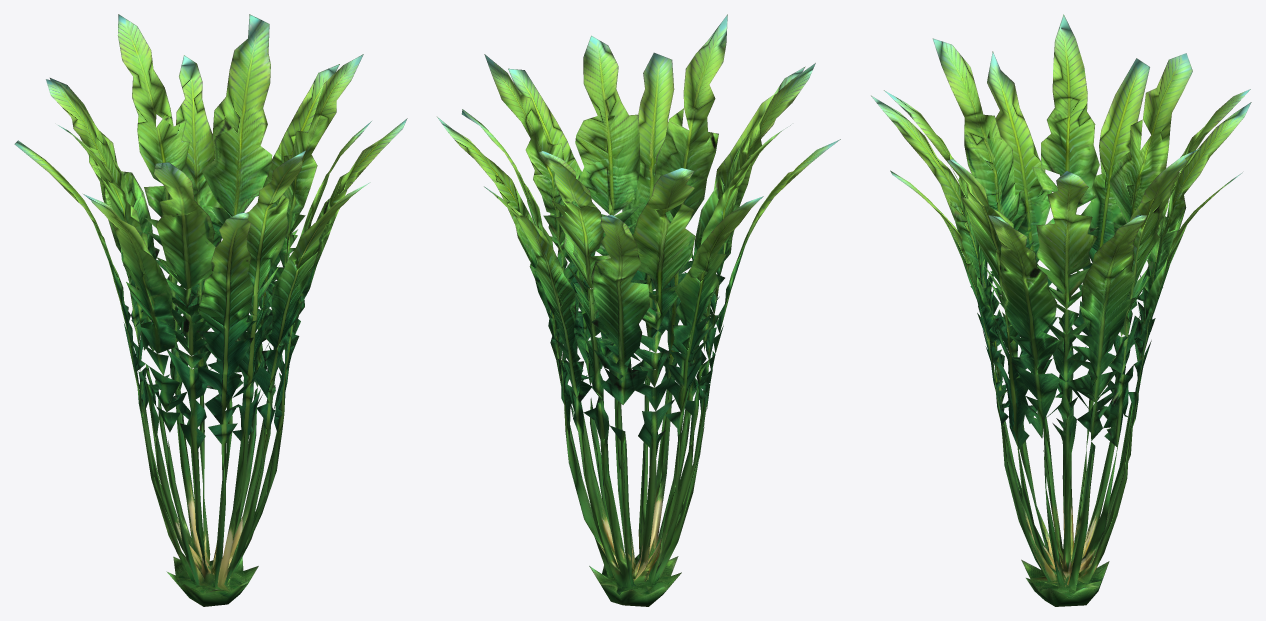
3 views of the same model, side by side, from view 1: azimuth 30°, elevation 25°; view 2: azimuth 150°, elevation 25°; view 3: azimuth 270°, elevation 25° (orthographic).
Visible parts, largest first — view 1: Mesh_0; view 2: Mesh_0; view 3: Mesh_0.
Part boxes in pixels (x1,y1,x2,y2): Mesh_0: [14, 14, 407, 606]; Mesh_0: [437, 14, 840, 606]; Mesh_0: [871, 14, 1251, 606].
Bounding box in the file's own units: 1.27 × 1.9 × 1.29.
Materials: 1 (1 with a texture image).
